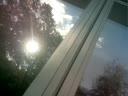window: (5, 1, 115, 96)
